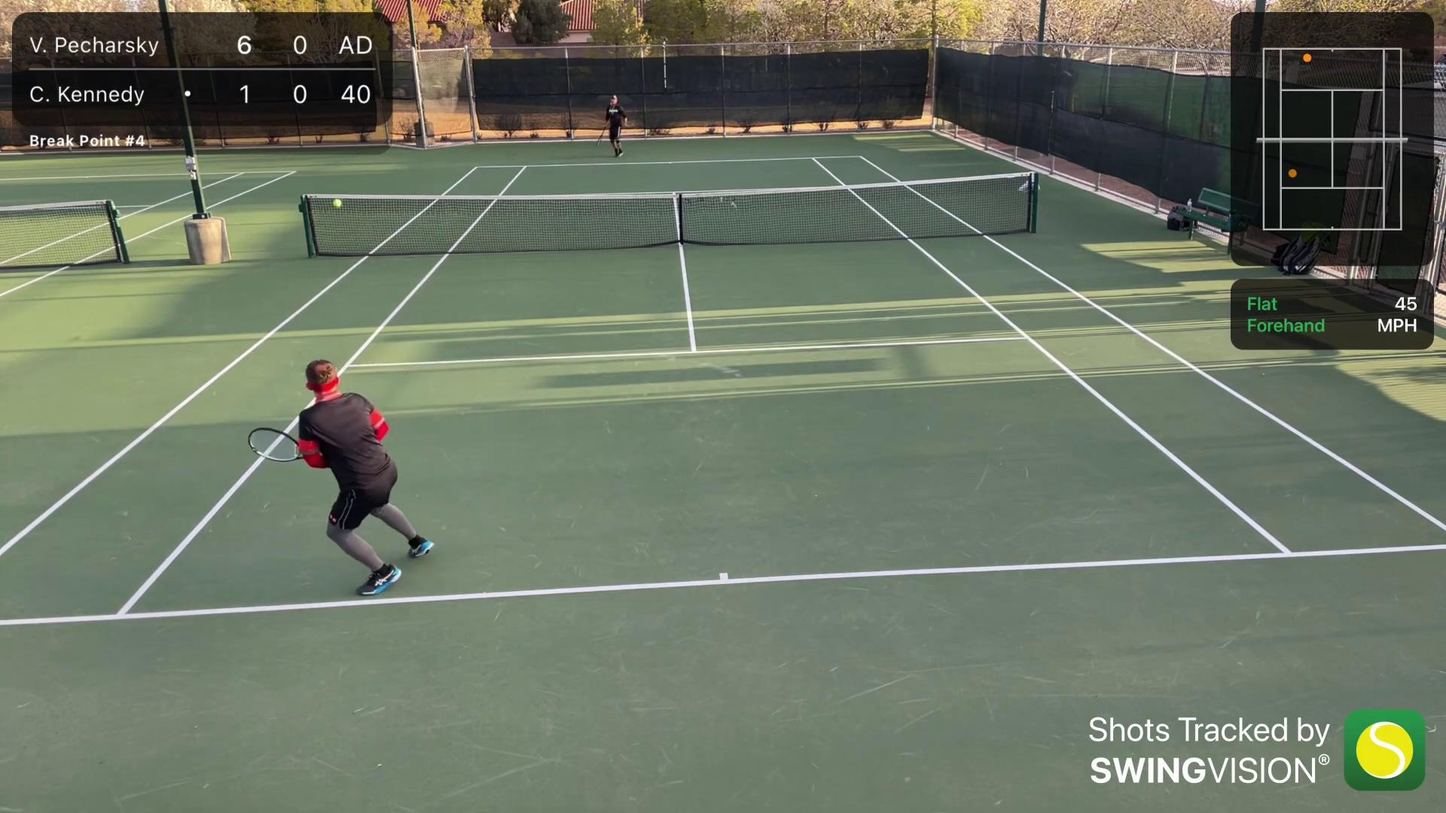ball: (329, 196, 346, 210)
